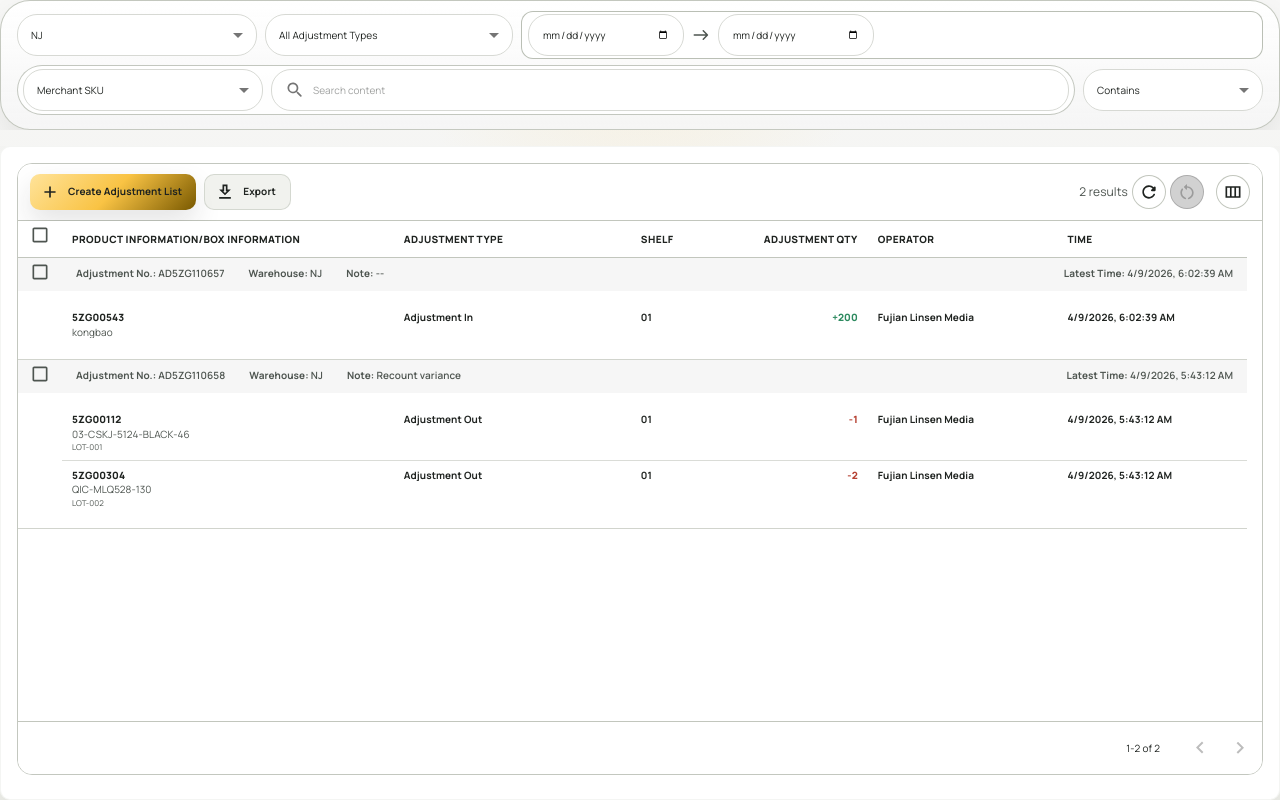
Test: InventoryAdjustmentsPage › renders grouped adjustment rows and opens the create dialog
Check: the dropdown labelled "Adjustment Type" is shown, box [279,28,378,42]
Check: the dropdown named "Adjustment search field" is shown, box [37,83,104,97]
Click the button "Create Adjustment List".
click(113, 192)  # box [30,174,196,210]
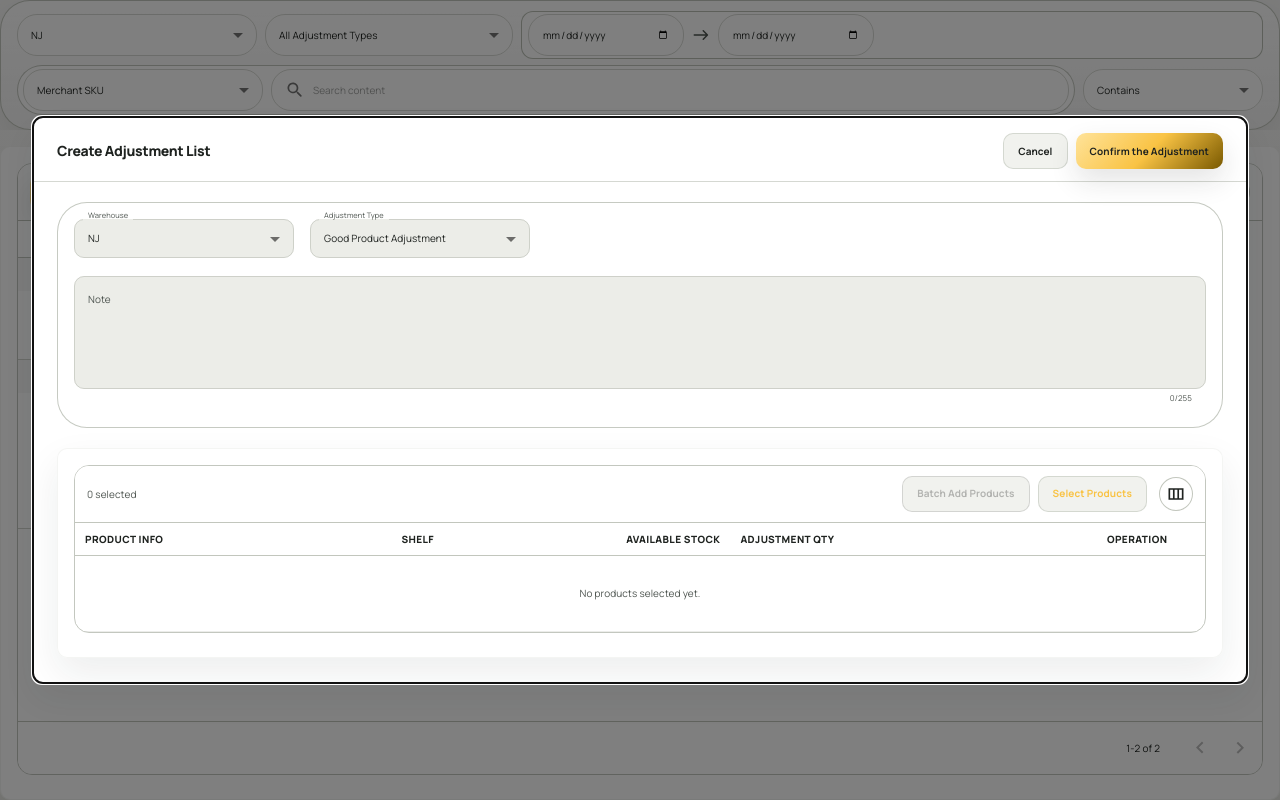
Check: the heading "Create Adjustment List" is shown, box [57,143,210,160]
Check: the dropdown named "Warehouse" is shown, box [88,231,100,245]
Check: the dropdown named "Adjustment Type" is shown, box [324,231,446,245]
